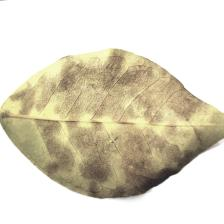canker: (18, 68, 178, 169)
